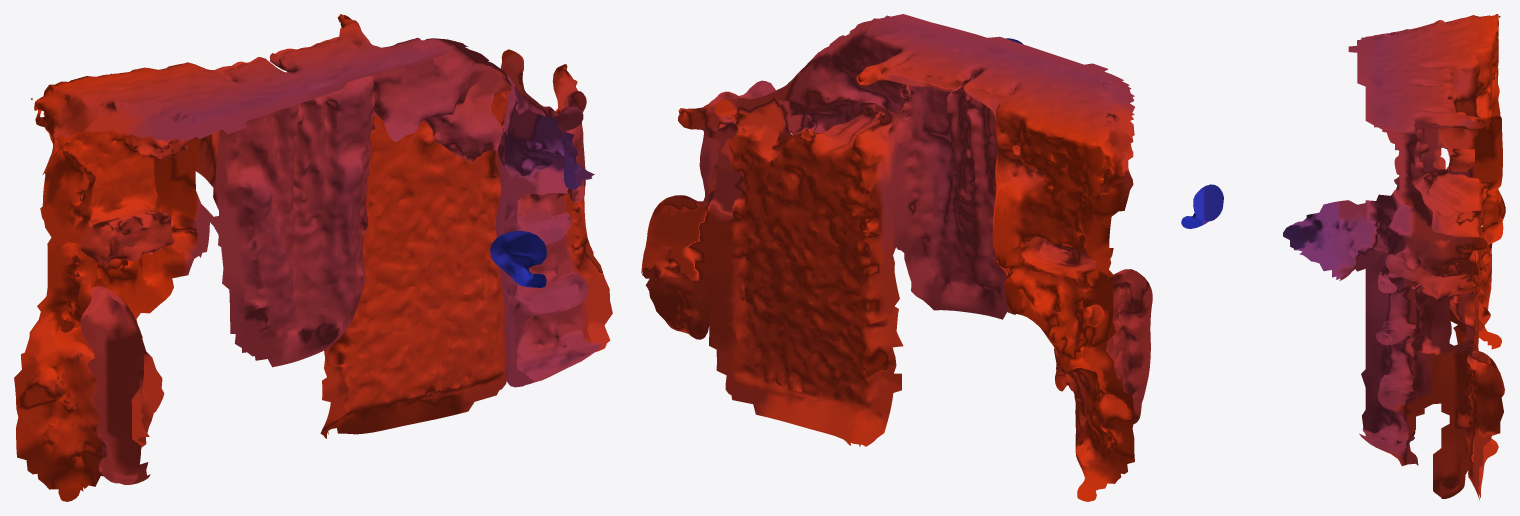
3 views of the same model, side by side, from view 1: azimuth 30°, elevation 25°; view 2: azimuth 150°, elevation 25°; view 3: azimuth 270°, elevation 25° (orthographic). The views are drawn at different scales.
Bounding box in the file's own units: 3.16 × 2.27 × 1.96.
